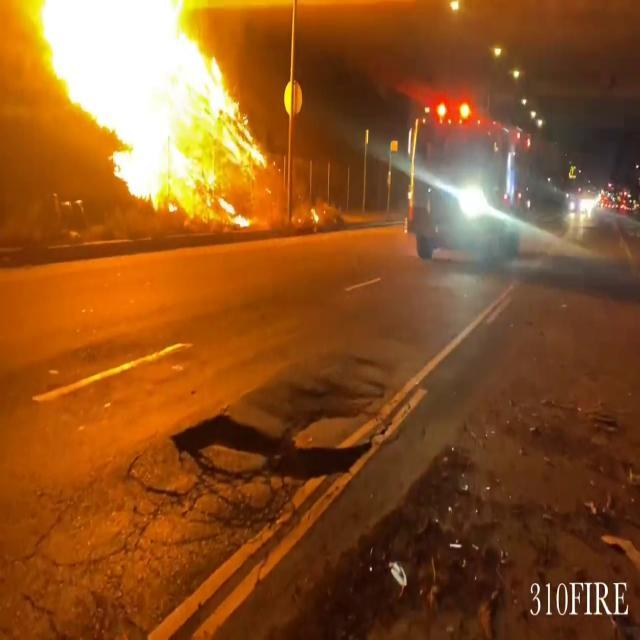Fire: (22, 0, 270, 220)
